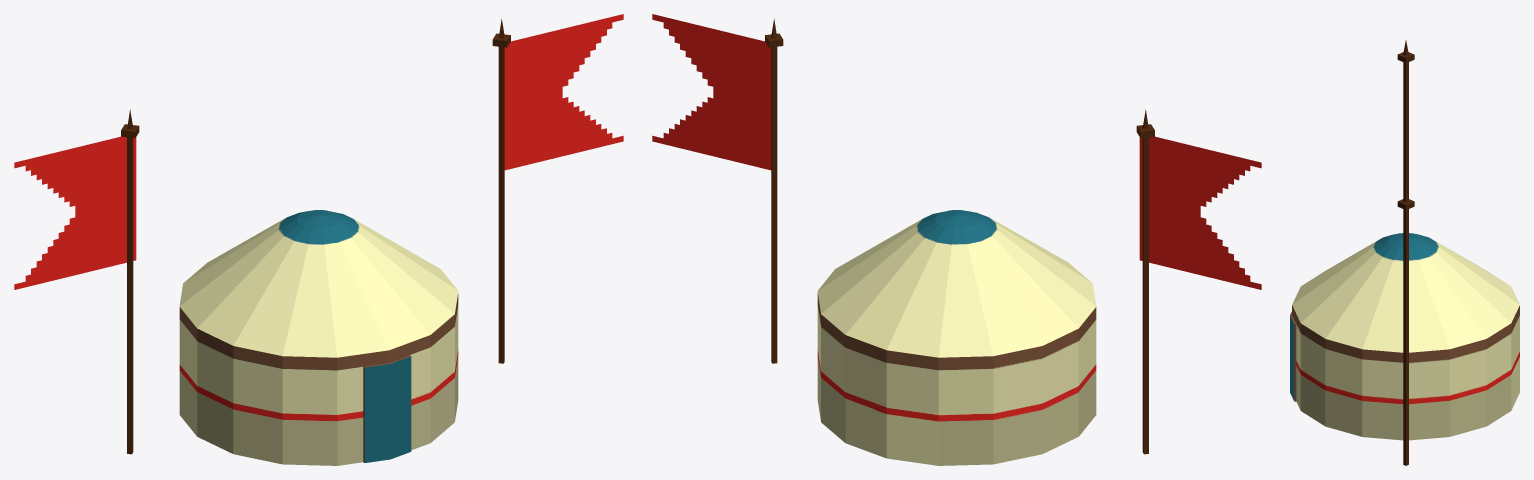
The model's file is nuurgan-urt.glb.
The picture shows the model from 3 angles, left to right: view 1: azimuth 30°, elevation 25°; view 2: azimuth 150°, elevation 25°; view 3: azimuth 270°, elevation 25°; orthographic projection. The views are drawn at different scales.
Visible parts, largest first — view 1: urt, Plane.001, Plane, Cylinder, Cylinder.001; view 2: urt, Plane.001, Plane, Cylinder, Cylinder.001; view 3: urt, Cylinder, Cylinder.001.
Boxes of the visible parts, <box> form: urt: <box>179,210,458,465</box>; Plane.001: <box>504,14,623,170</box>; Plane: <box>14,136,136,289</box>; Cylinder: <box>492,19,510,363</box>; Cylinder.001: <box>121,109,139,454</box>; urt: <box>817,210,1096,465</box>; Plane.001: <box>652,14,771,170</box>; Plane: <box>1139,136,1261,289</box>; Cylinder: <box>765,19,783,363</box>; Cylinder.001: <box>1136,109,1154,454</box>; urt: <box>1290,233,1519,440</box>; Cylinder: <box>1397,187,1414,465</box>; Cylinder.001: <box>1397,40,1414,198</box>.
Bounding box in the file's own units: 20 × 10.8 × 8.07.
4 materials, 1 textured.
